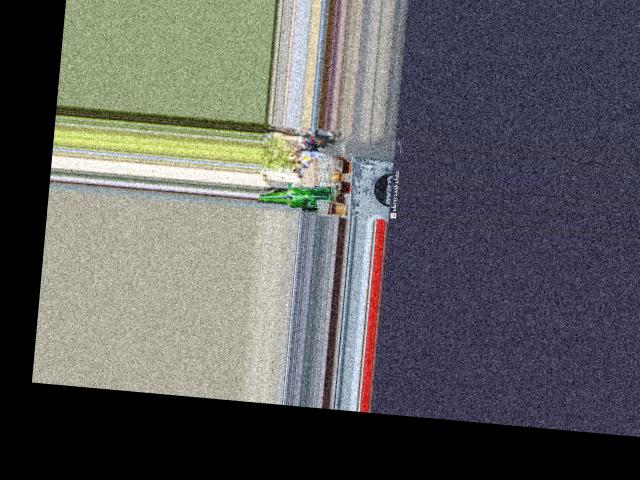beer: (258, 179, 341, 211)
